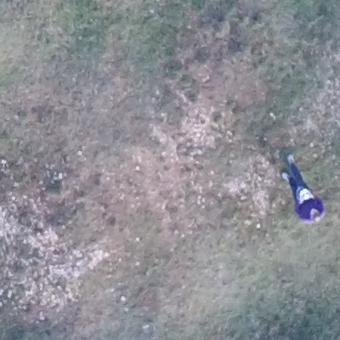human: (276, 150, 326, 224)
